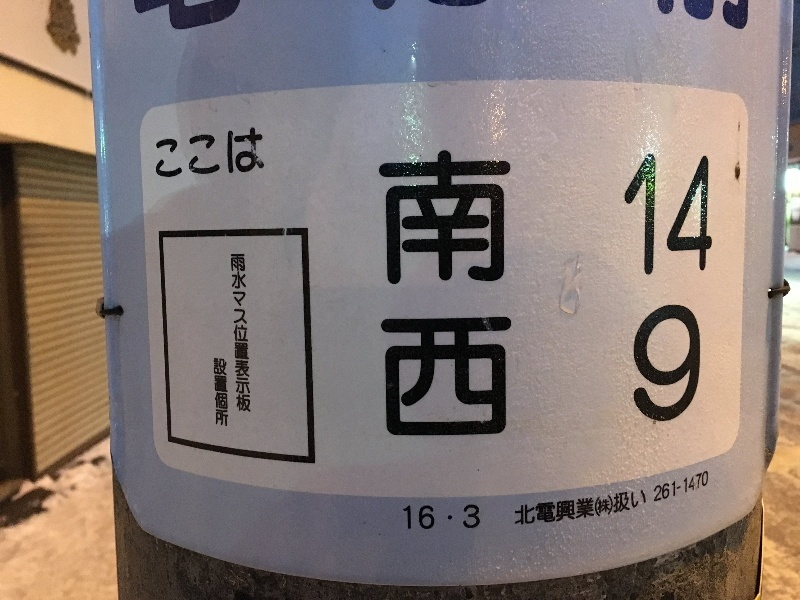text: (385, 145, 400, 286), (401, 145, 416, 286), (417, 145, 432, 286), (433, 145, 448, 286), (449, 145, 464, 286), (465, 145, 480, 286), (481, 145, 496, 286), (497, 145, 512, 286), (497, 316, 513, 438), (625, 153, 640, 278), (641, 153, 656, 278), (657, 153, 672, 278), (673, 153, 688, 278), (689, 153, 704, 278), (385, 316, 400, 438), (401, 316, 416, 438), (417, 316, 432, 438), (433, 316, 448, 438), (449, 316, 464, 438), (465, 316, 480, 438), (481, 316, 496, 438), (641, 303, 656, 424), (657, 303, 672, 424), (673, 303, 688, 424), (241, 254, 252, 413), (689, 303, 703, 424), (230, 254, 240, 413), (705, 153, 715, 278), (378, 145, 384, 286), (161, 126, 176, 181), (177, 126, 192, 181), (193, 126, 208, 181), (209, 126, 224, 181), (225, 126, 240, 181), (241, 126, 256, 181), (213, 357, 224, 427), (634, 303, 640, 424), (529, 487, 544, 531), (545, 487, 560, 531), (561, 487, 576, 531), (577, 487, 592, 531), (593, 487, 608, 531), (609, 487, 624, 531), (625, 487, 640, 531), (514, 487, 528, 531), (257, 126, 266, 181), (657, 470, 672, 503), (673, 470, 688, 503), (689, 470, 704, 503), (465, 504, 481, 533), (417, 504, 432, 533), (433, 504, 448, 533), (449, 504, 464, 533), (641, 487, 650, 531), (403, 504, 416, 533), (381, 316, 384, 438), (225, 357, 229, 427), (155, 126, 160, 181), (705, 470, 709, 503), (654, 470, 656, 503)
